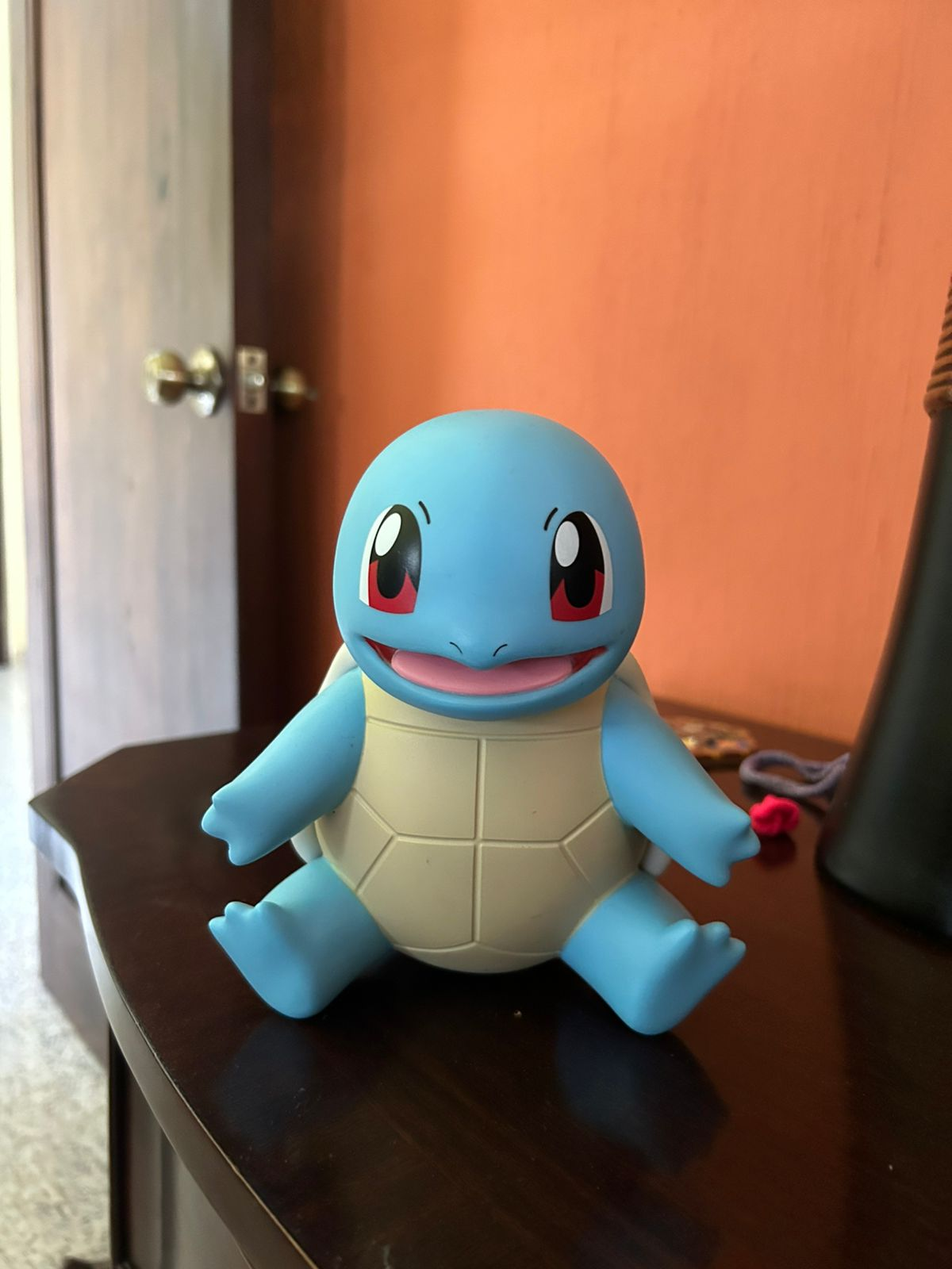Squirtle: (203, 411, 756, 1032)
